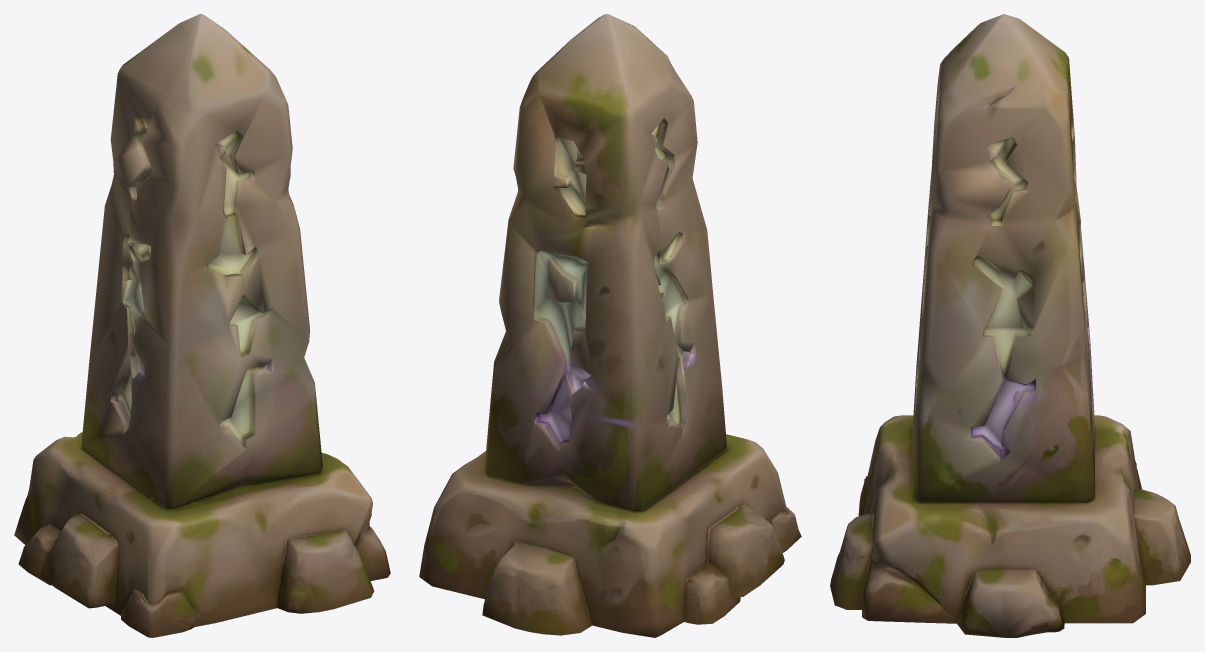
The model's file is 85c114f0-95d9-4db8-a574-66bbf68ab45f-pbr_model.glb.
3 renders of one model, left to right at view 1: azimuth 30°, elevation 25°; view 2: azimuth 150°, elevation 25°; view 3: azimuth 270°, elevation 25°, orthographic.
Parts seen in each view (by area): view 1: tripo_node_85c114f0-95d9-4db8-a574-66bbf68ab45f; view 2: tripo_node_85c114f0-95d9-4db8-a574-66bbf68ab45f; view 3: tripo_node_85c114f0-95d9-4db8-a574-66bbf68ab45f.
Boxes of the visible parts, x1=… form: tripo_node_85c114f0-95d9-4db8-a574-66bbf68ab45f: x1=14, y1=14, x2=390, y2=637; tripo_node_85c114f0-95d9-4db8-a574-66bbf68ab45f: x1=419, y1=14, x2=801, y2=637; tripo_node_85c114f0-95d9-4db8-a574-66bbf68ab45f: x1=830, y1=14, x2=1190, y2=637.
Size of the model in its own units: 0.5801 by 0.998 by 0.5957.
1 material, 1 textured.
